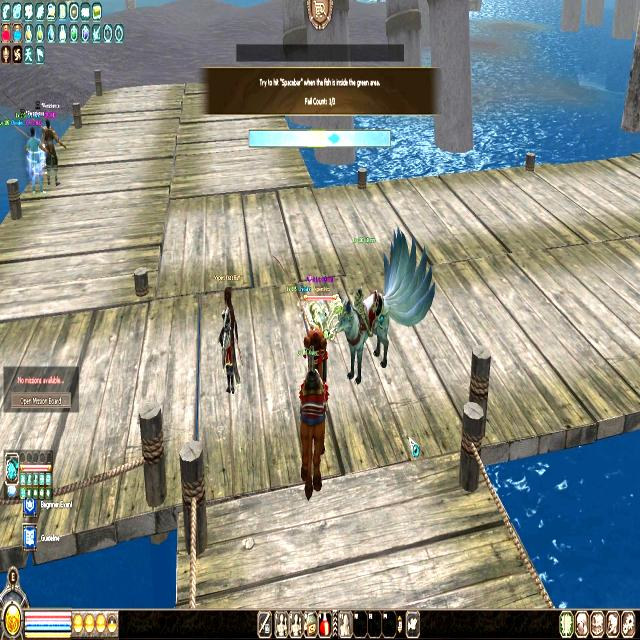box: (305, 128, 327, 147)
